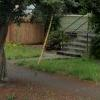stairs: (59, 34, 99, 61)
